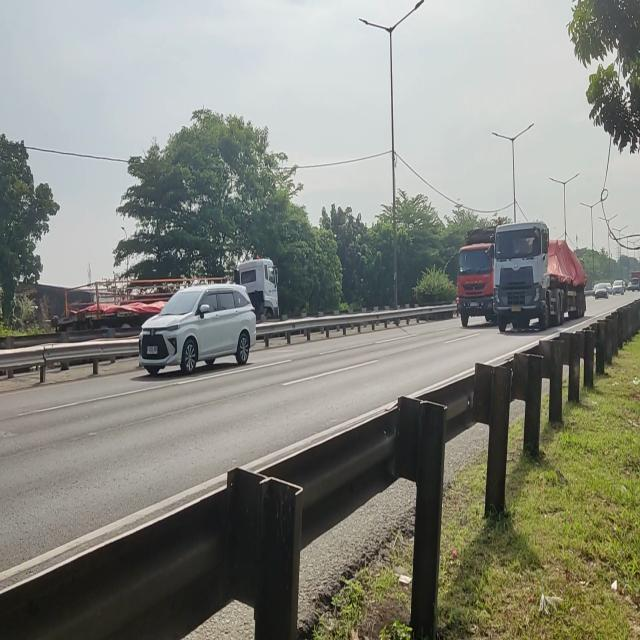Golongan I: (135, 272, 259, 385)
